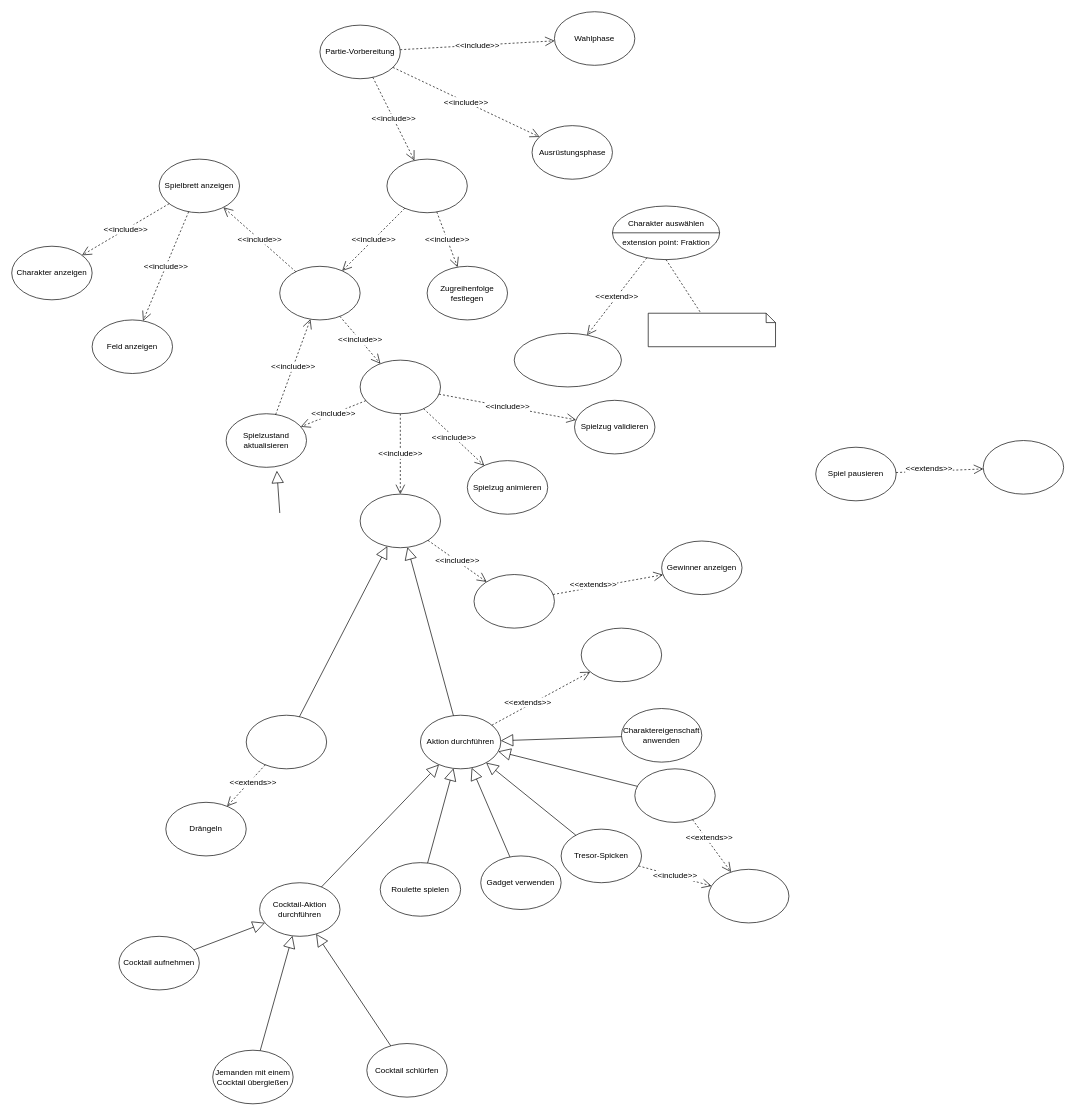
Image size: 1075x1116. Some labels were removed from this diagram. The centre of each missing label's shape, as x and y in pixels:
"Bewegung durchführen" belongs at point 286,742.
"Charakter-Werte anzeigen" belongs at point 567,360.
"condition: {Charakter gehört der eigenen Fraktion an} extension point: Fraktion" belongs at point 712,330.
"freies Nachbarfeld finden" belongs at point 621,654.
"Gewinner Erkennung" belongs at point 513,601.
"Punkt verwenden" belongs at point 400,520.
"Spiel fortsetzen" belongs at point 1023,467.
"Spielbrett aktualisieren" belongs at point 319,293.
"Spielzug durchführen" belongs at point 400,386.
"Spionieren" belongs at point 674,795.
"Startplatzverteilung der Charaktere" belongs at point 426,185.
"Tresorkombination erhalten" belongs at point 748,896.
